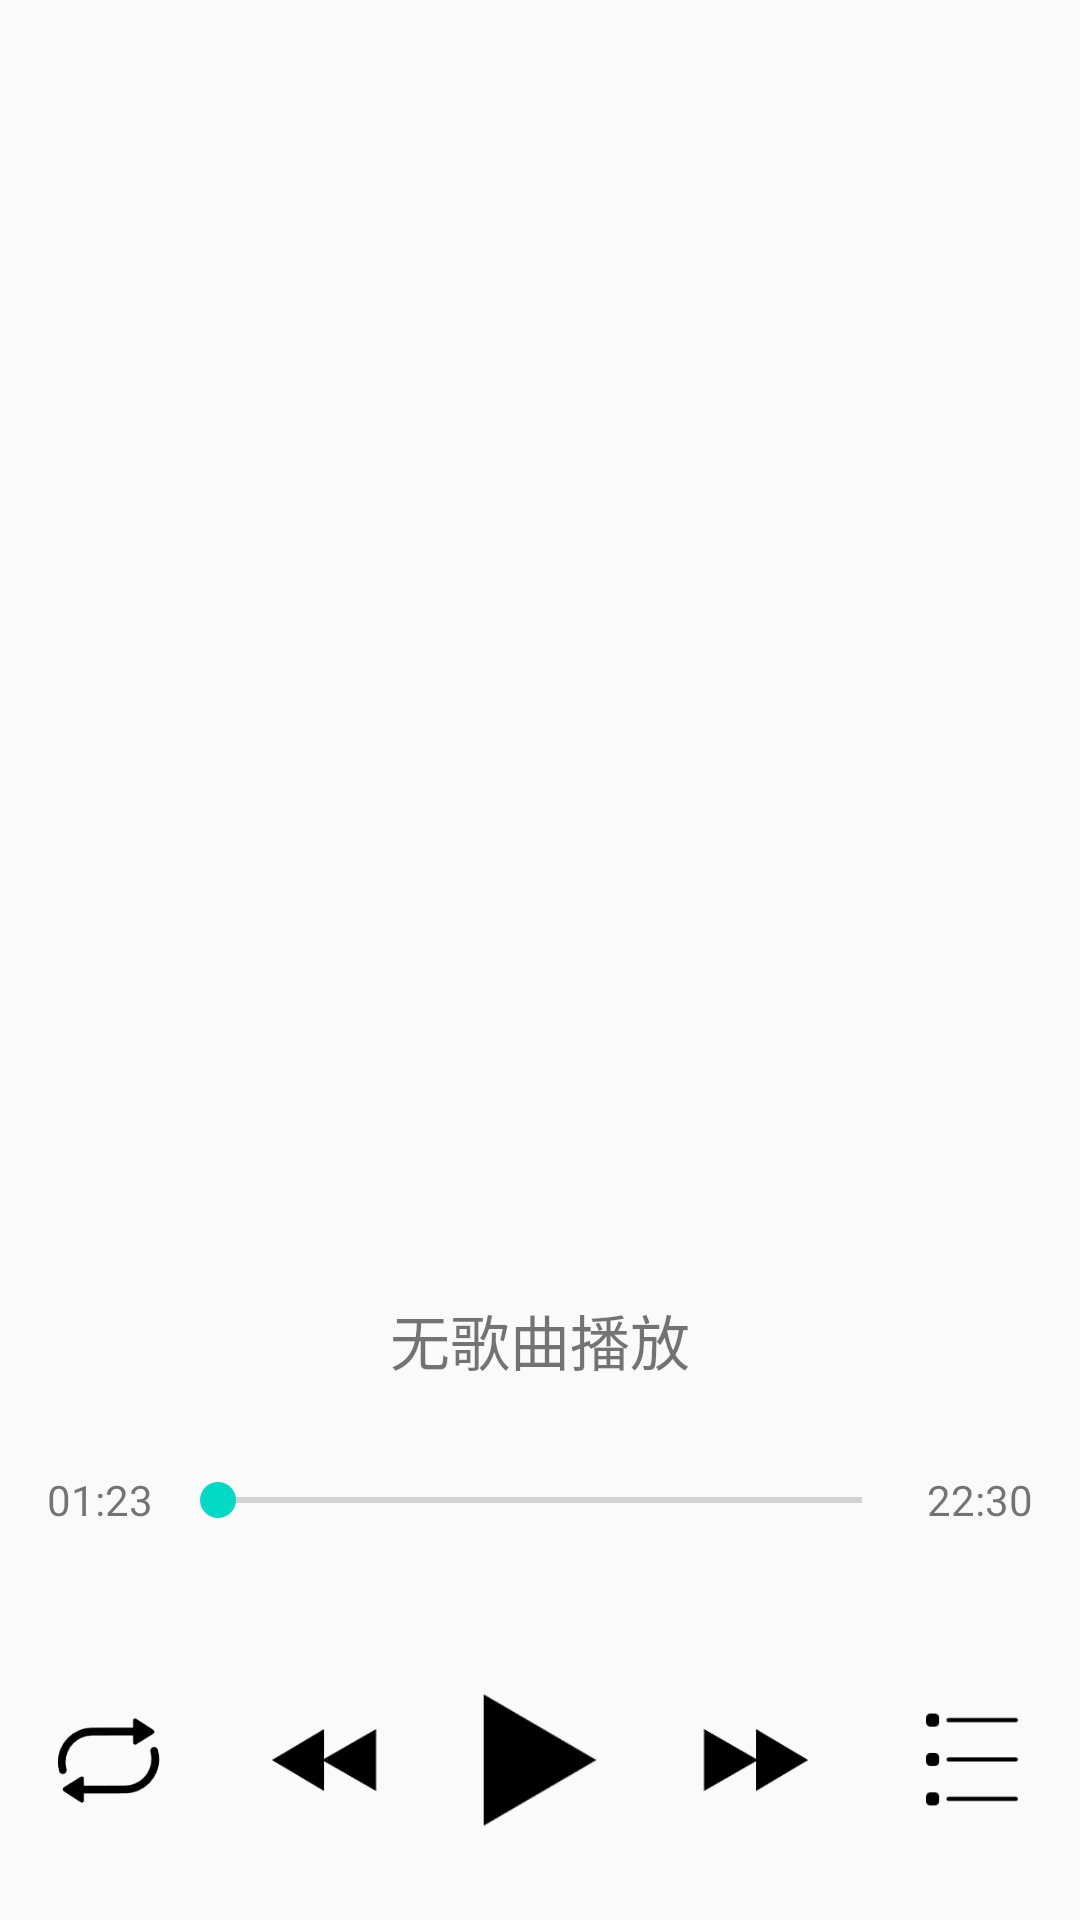

Point at icon controls on the screen. Image size 1080×1920, points as point (x, y).
last: point (324, 1760)
list: point (972, 1759)
next: point (755, 1760)
play: point (540, 1760)
recycle: point (108, 1760)
